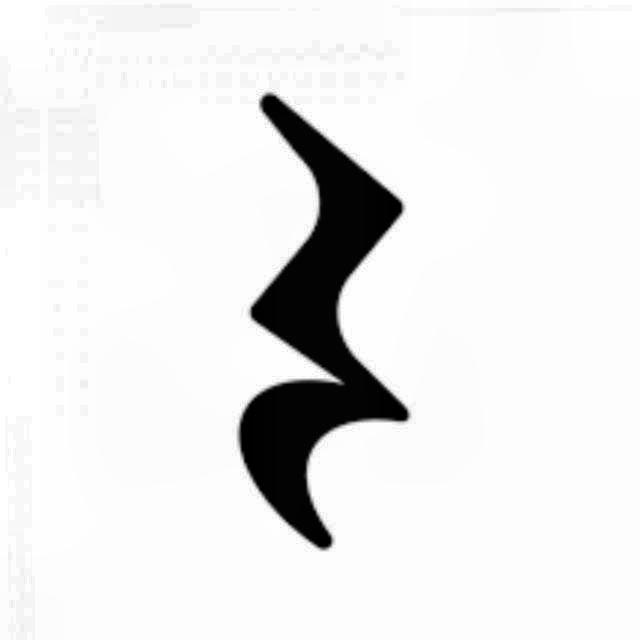Quarter-rest: (212, 85, 432, 563)
